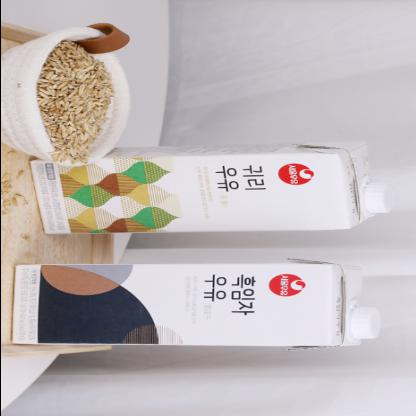tetra: (18, 140, 404, 246), (2, 254, 399, 356)
